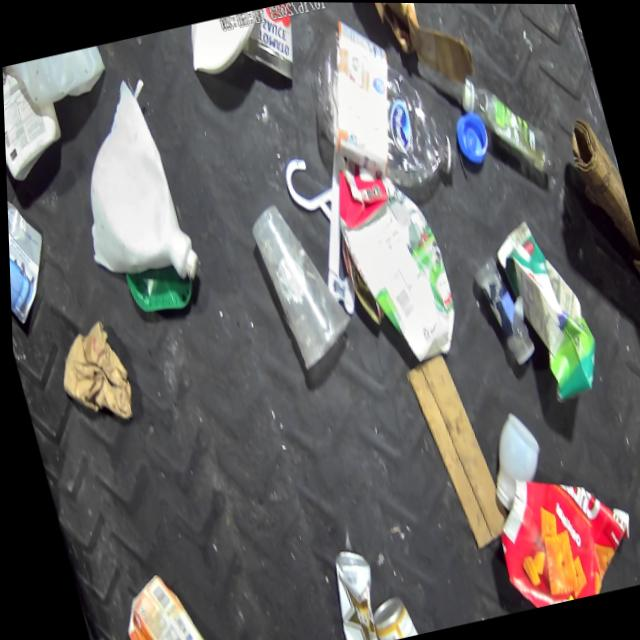can: (316, 541, 384, 640), (242, 1, 305, 83), (361, 589, 419, 640)
milk_jug: (45, 72, 201, 298), (2, 57, 68, 182), (2, 43, 110, 111)
non_white_jug: (323, 152, 464, 370), (485, 209, 603, 406), (107, 561, 223, 640), (82, 624, 150, 640)
plastic_bottle: (292, 11, 458, 203), (452, 60, 554, 189), (467, 248, 534, 367)
